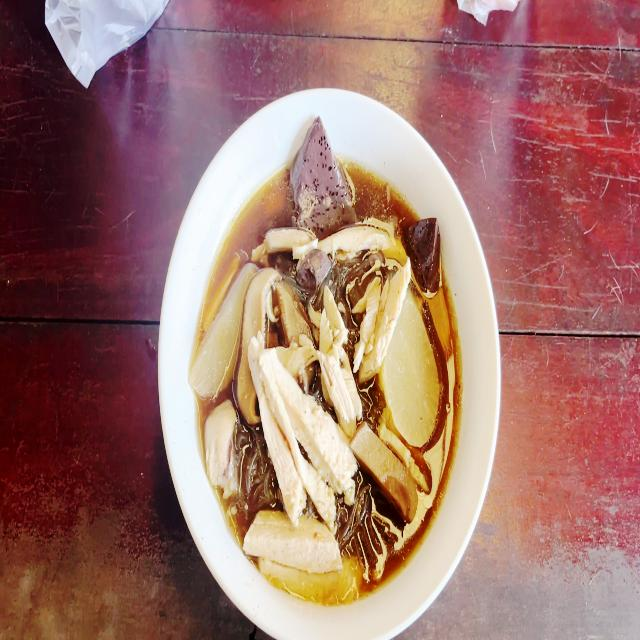boiled_chicken_blood_jelly: (290, 120, 358, 225), (409, 217, 440, 280), (300, 247, 330, 291)
chicken_shredded: (250, 338, 353, 515), (243, 518, 345, 590), (356, 261, 408, 375), (318, 289, 358, 425), (199, 402, 234, 488), (317, 225, 398, 260), (258, 222, 318, 258)
daikon_radish: (191, 265, 250, 399), (392, 314, 439, 438)
noodle: (196, 160, 459, 602)
